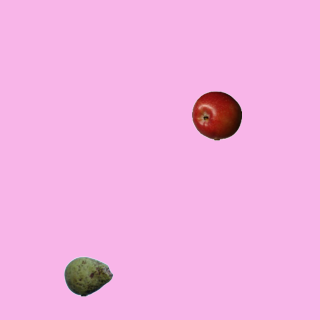Apple Braeburn: (191, 90, 241, 140)
Pear Stone: (63, 251, 113, 301)
